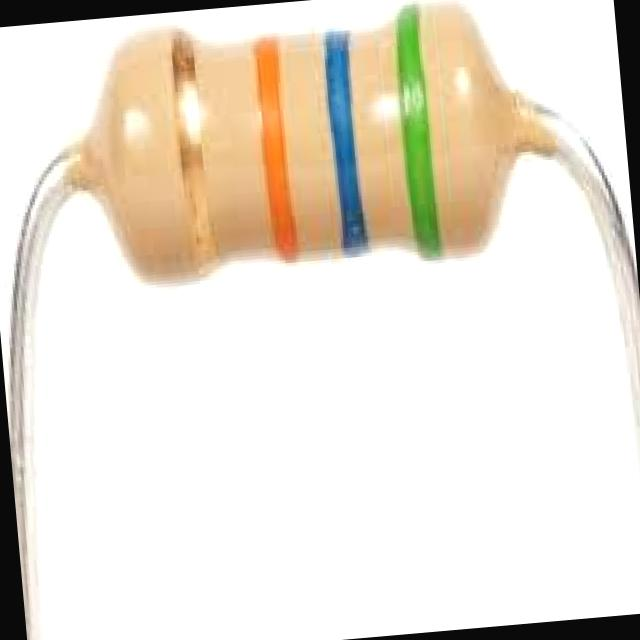Resistor: (84, 4, 514, 277)
blue: (321, 25, 369, 264)
gold: (168, 32, 226, 293)
green: (392, 1, 443, 261)
orange: (247, 34, 297, 270)
